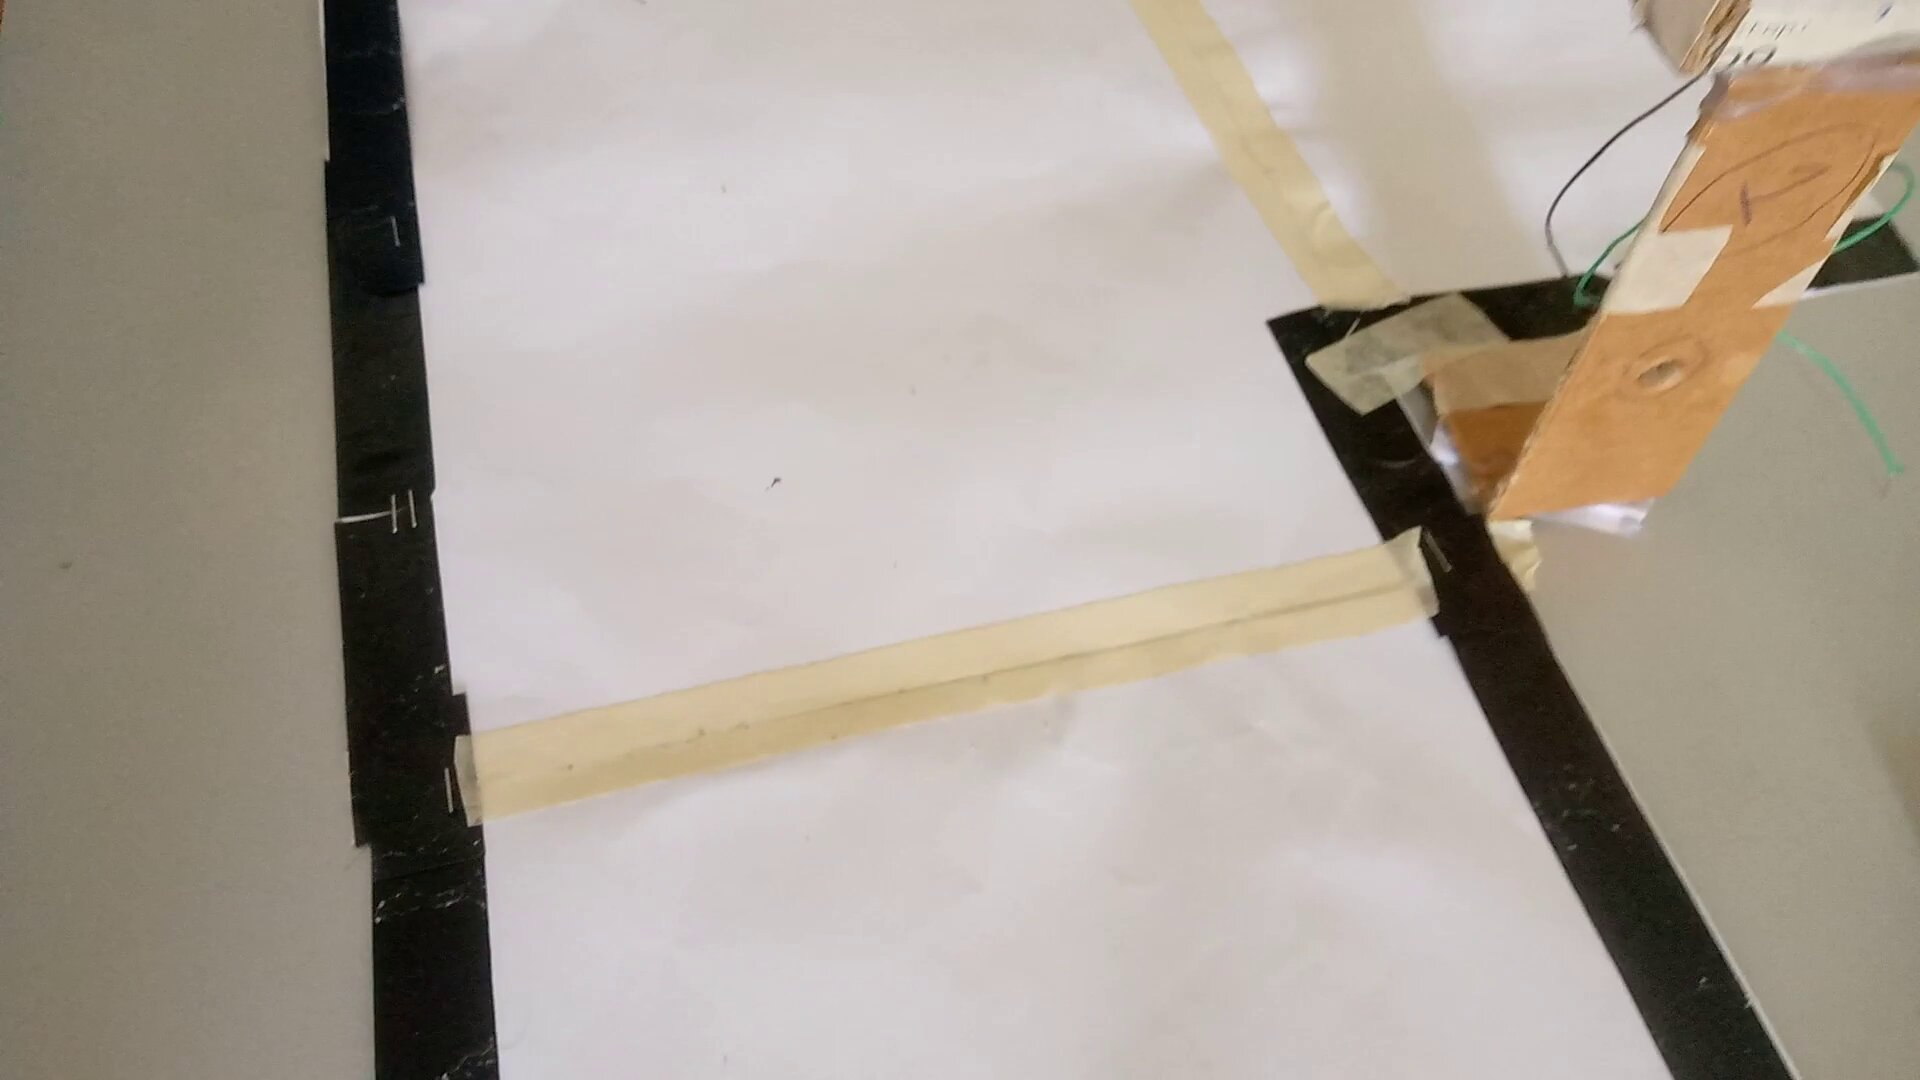right: (258, 1, 1448, 469)
